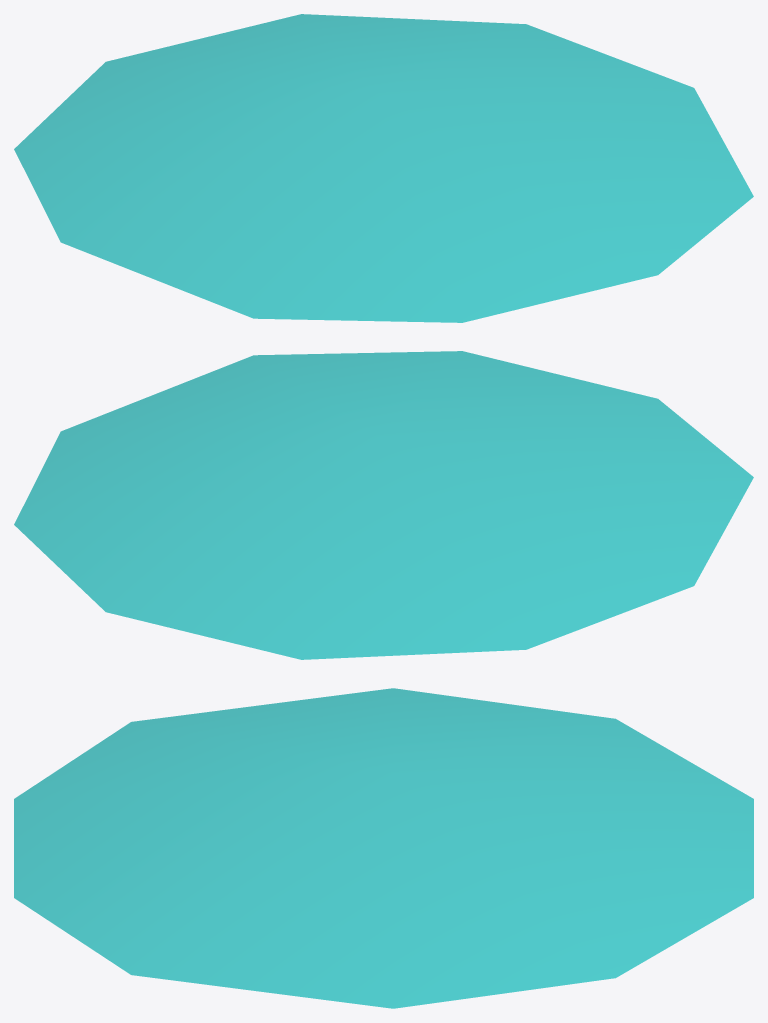
File: dummy_muf1.gltf
3 views of the same model, one above another, from view 1: azimuth 30°, elevation 25°; view 2: azimuth 150°, elevation 25°; view 3: azimuth 270°, elevation 25° (orthographic). The views are drawn at different scales.
Parts seen in each view (by area): view 1: dummy_muf1; view 2: dummy_muf1; view 3: dummy_muf1.
Part boxes in pixels (x1,y1,x2,y2): dummy_muf1: [14, 14, 753, 322]; dummy_muf1: [14, 351, 753, 659]; dummy_muf1: [14, 688, 753, 1008].
Bounding box in the file's own units: 0.4062 × 0.0444 × 0.3962.
